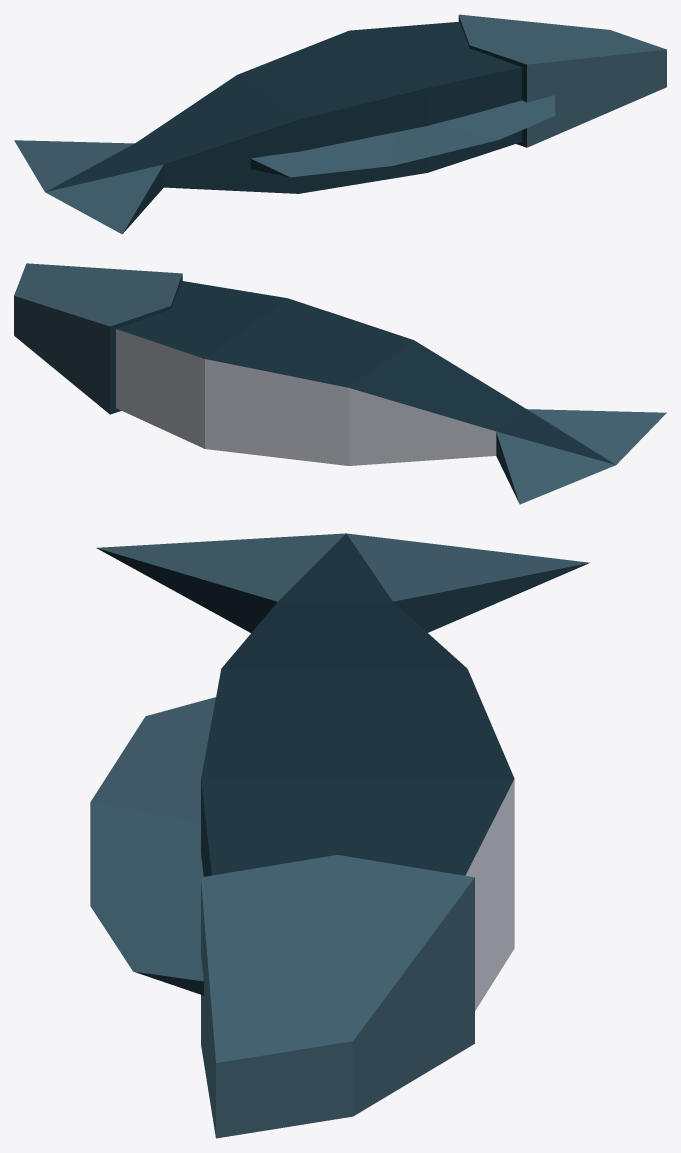
The model's file is TB_Prop_Fish.FBX.
3 views of the same model, one above another, from view 1: azimuth 30°, elevation 25°; view 2: azimuth 150°, elevation 25°; view 3: azimuth 270°, elevation 25° (orthographic). The views are drawn at different scales.
Visible parts, largest first — view 1: TB_Prop_Fish; view 2: TB_Prop_Fish; view 3: TB_Prop_Fish.
Part boxes in pixels (x1,y1,x2,y2): TB_Prop_Fish: [14, 14, 666, 234]; TB_Prop_Fish: [14, 263, 666, 504]; TB_Prop_Fish: [90, 533, 589, 1138].
Size of the model in its own units: 0.8363 by 0.1152 by 0.3073.
